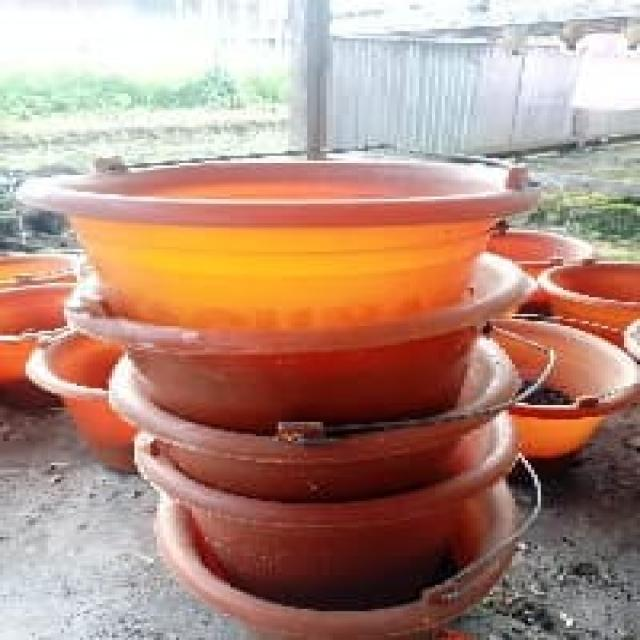HDPE Plastic: (11, 150, 532, 308), (56, 266, 528, 406), (153, 490, 528, 630), (104, 375, 524, 496), (468, 308, 640, 472), (24, 326, 140, 476), (0, 272, 74, 402), (531, 262, 640, 324), (487, 226, 595, 271)
